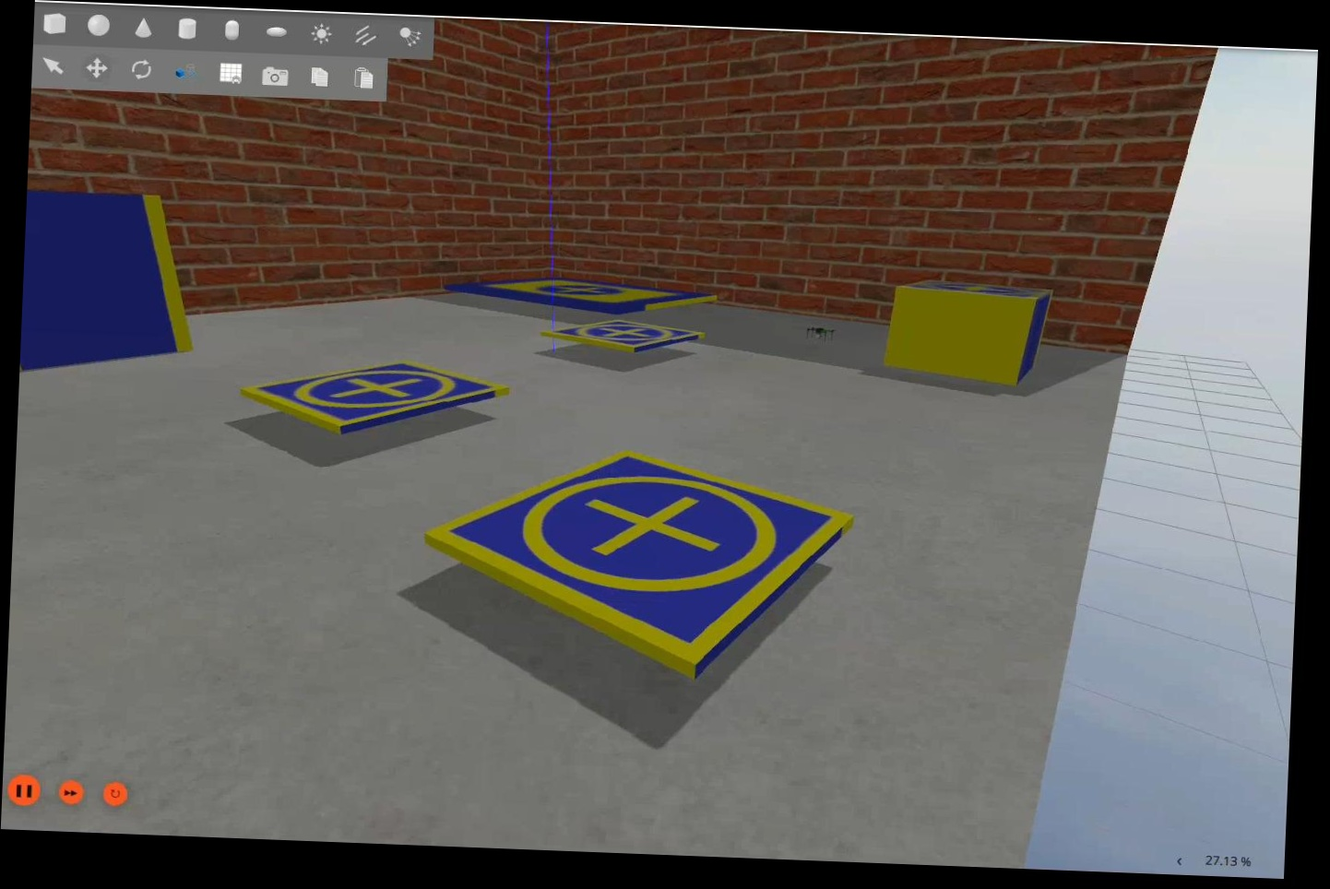large_base: (442, 268, 723, 324)
small_base: (422, 445, 861, 684), (243, 354, 512, 443), (539, 311, 709, 363), (897, 275, 1059, 311)
